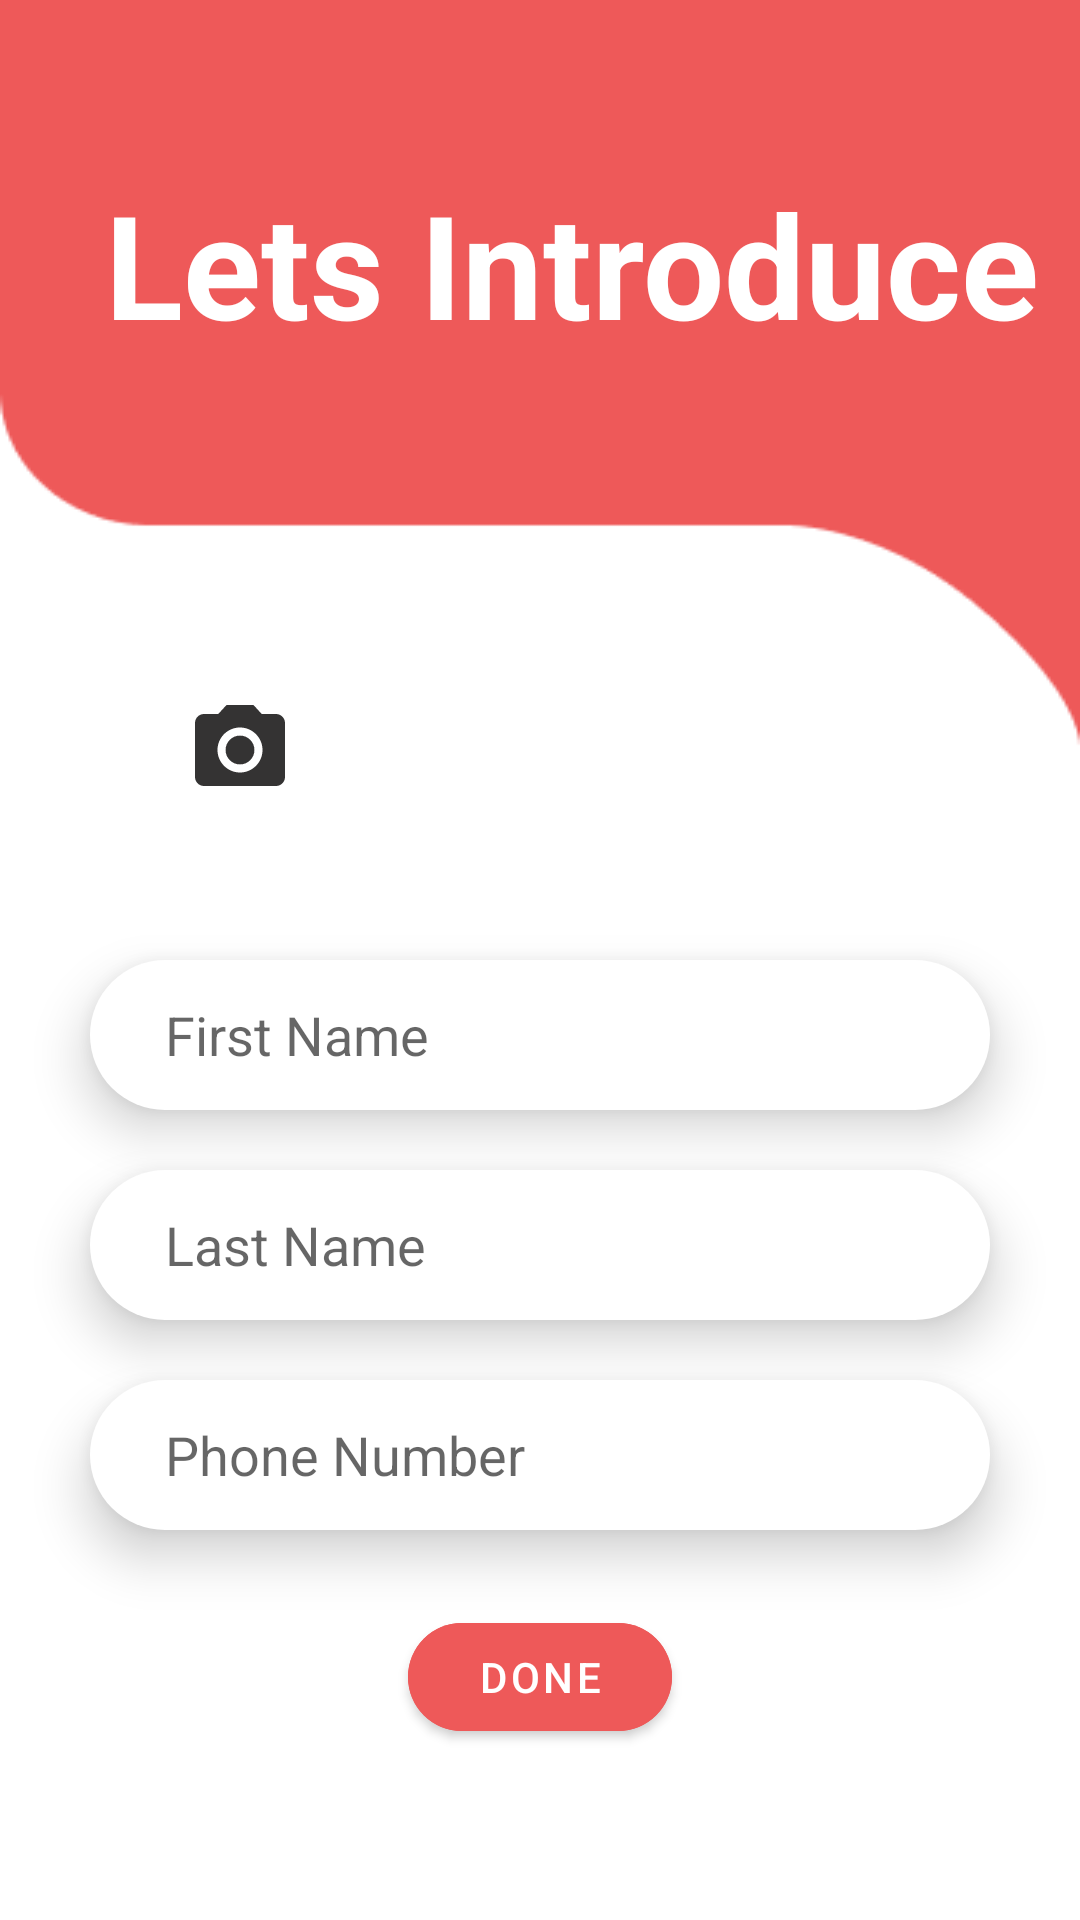

Where icons sit on this 1080*1920 app screen, as (x1, y1, x2, y2):
edit profile picture: (195, 705, 285, 786)
